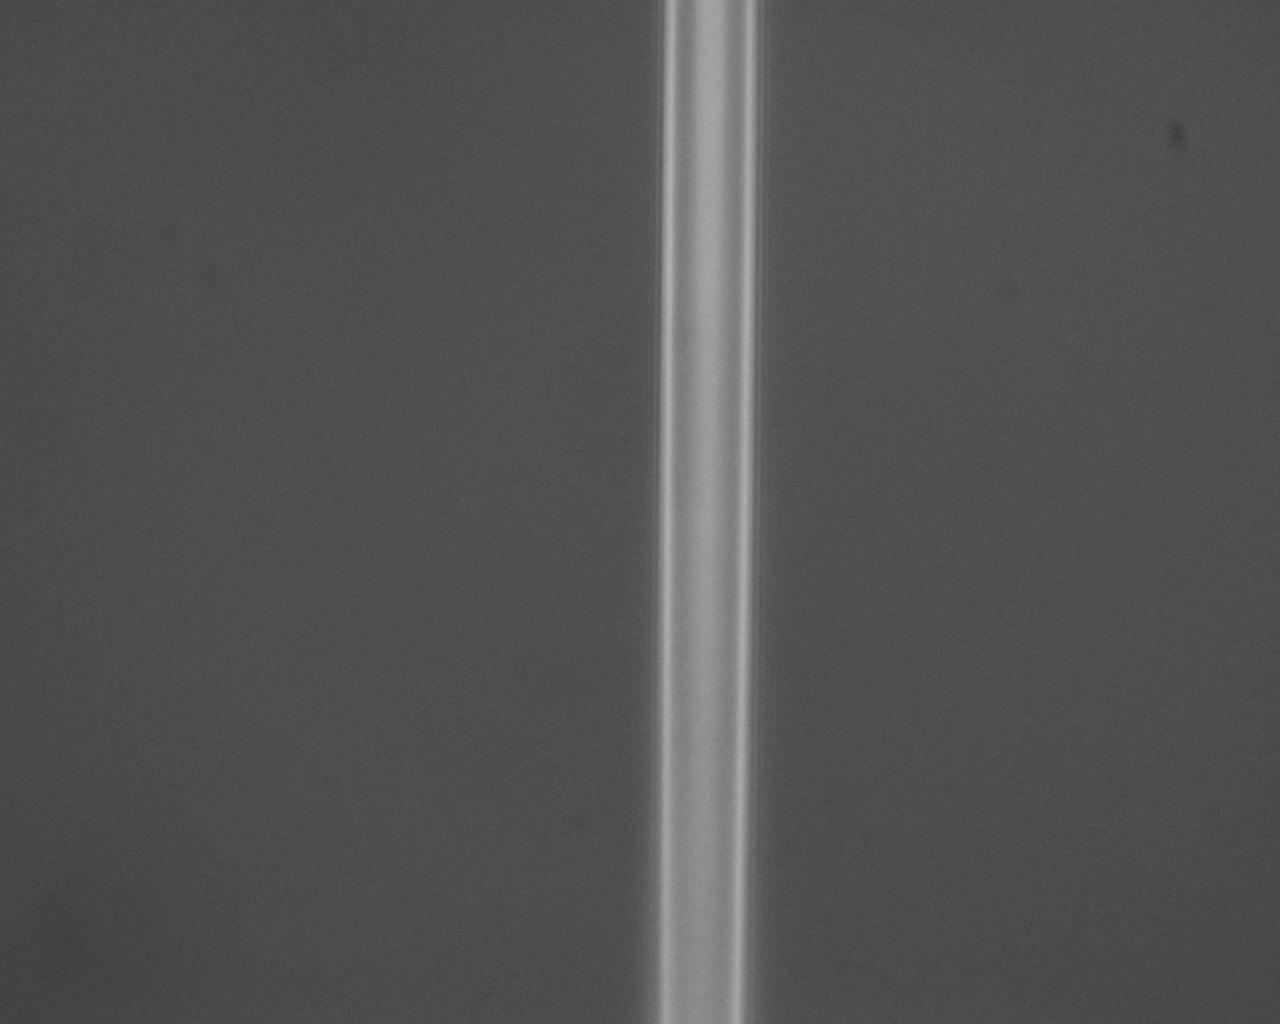fiber: (159, 0, 864, 1024)
